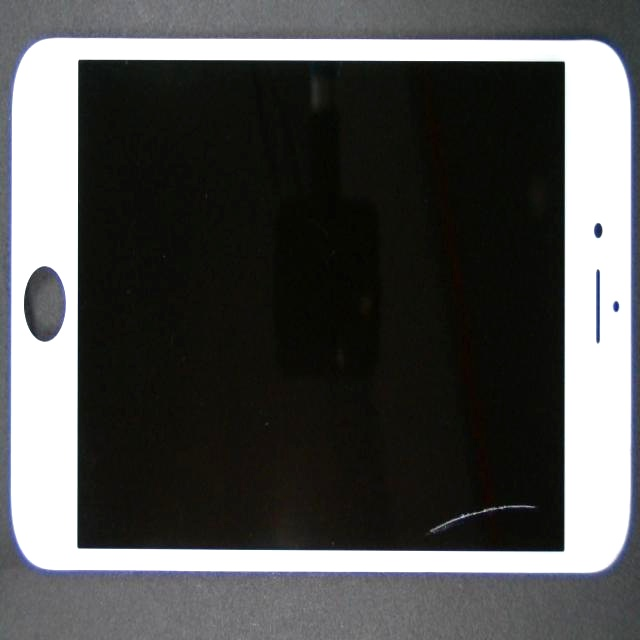scratch: (339, 222, 640, 640)
